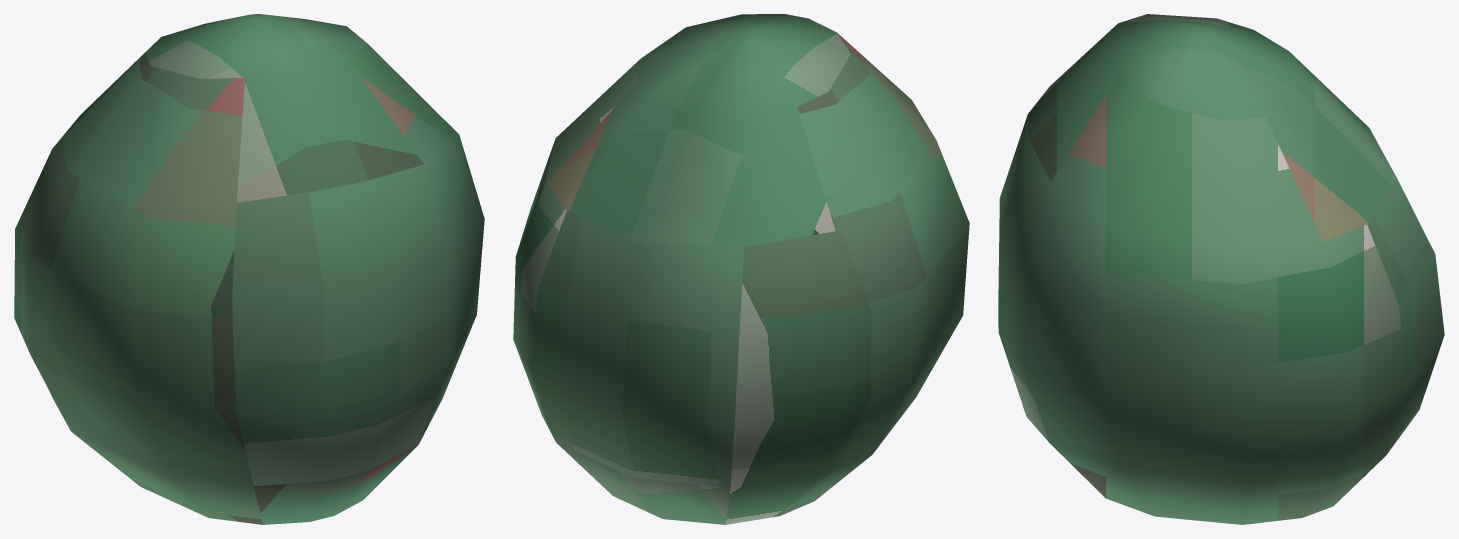
Rendered from a_com_house_a01_ore01_darkgreen.gltf.
3 views of the same model, side by side, from view 1: azimuth 30°, elevation 25°; view 2: azimuth 150°, elevation 25°; view 3: azimuth 270°, elevation 25° (orthographic). The views are drawn at different scales.
Visible parts, largest first — view 1: a_com_house_a01_ore01_mesh4_shape:a_com_house_a01_ore01_01; view 2: a_com_house_a01_ore01_mesh4_shape:a_com_house_a01_ore01_01; view 3: a_com_house_a01_ore01_mesh4_shape:a_com_house_a01_ore01_01.
Boxes of the visible parts, <box> form: a_com_house_a01_ore01_mesh4_shape:a_com_house_a01_ore01_01: <box>14,14,484,524</box>; a_com_house_a01_ore01_mesh4_shape:a_com_house_a01_ore01_01: <box>513,14,969,524</box>; a_com_house_a01_ore01_mesh4_shape:a_com_house_a01_ore01_01: <box>998,14,1444,524</box>.
Bounding box in the file's own units: 0.2172 × 0.2337 × 0.2147.
1 material, 1 textured.
